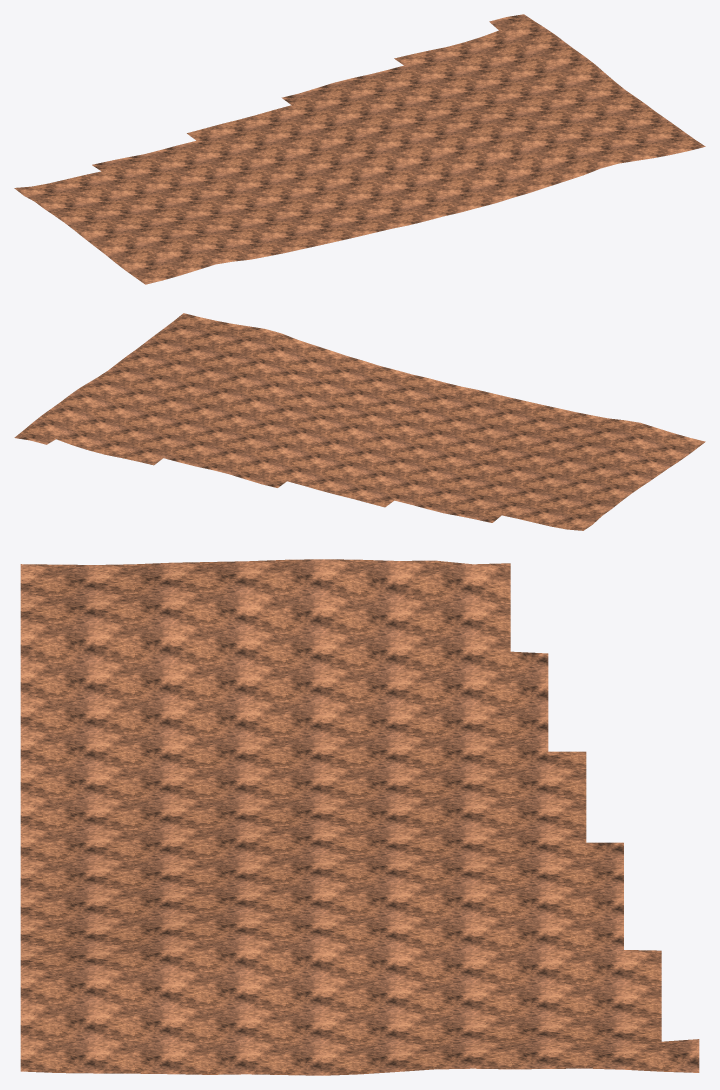
Rendered from terrain_10_04.dae.
3 renders of one model, top to bottom at view 1: azimuth 30°, elevation 25°; view 2: azimuth 150°, elevation 25°; view 3: azimuth 270°, elevation 25°, orthographic. The views are drawn at different scales.
Visible parts, largest first — view 1: terrain_10_04-node; view 2: terrain_10_04-node; view 3: terrain_10_04-node.
Boxes of the visible parts, <box> form: terrain_10_04-node: <box>14,14,705,284</box>; terrain_10_04-node: <box>14,313,705,530</box>; terrain_10_04-node: <box>20,559,699,1075</box>.
Bounding box in the file's own units: 128 × 72 × 2.84.
1 material, 1 textured.
